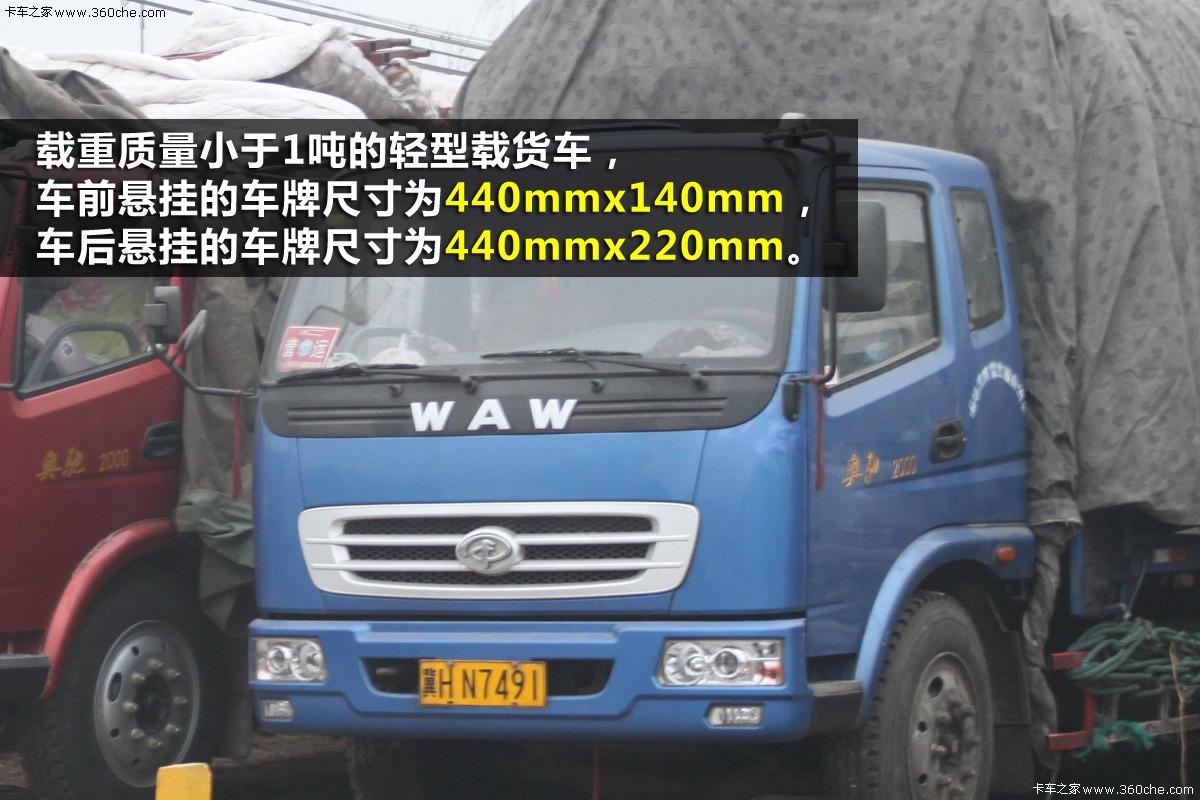plate_number: (413, 656, 550, 706)
